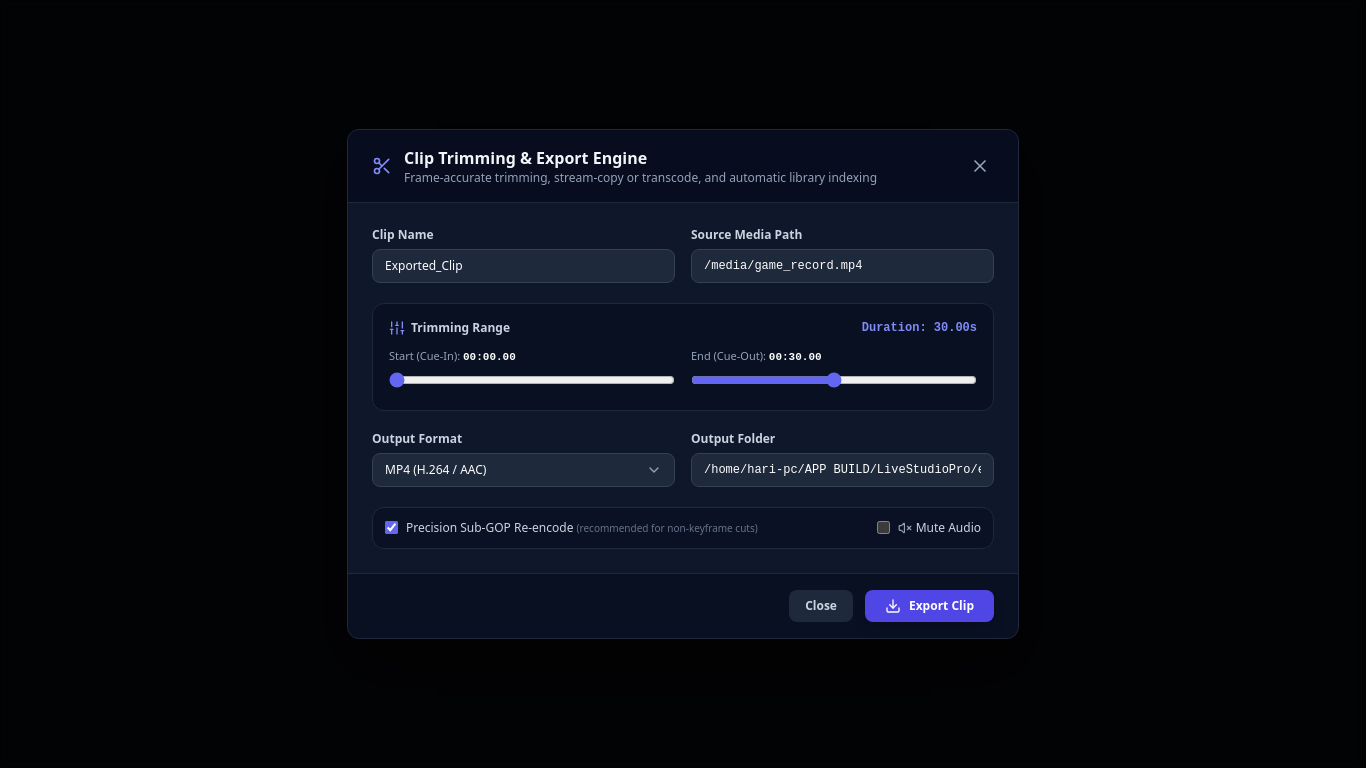
Scenario: LiveStudio Pro Phase 7 Playback, Playlists, Instant Replay and Scheduling › renders ClipExportModal and handles visual trimming and export configuration
Expected: the heading "Clip Trimming & Export Engine" is shown, [404, 147, 647, 169]
Expected: the text "Trimming Range" is shown, [389, 320, 510, 336]
Trigger export
Click the button "Export Clip". click: point(930, 606)
box: [865, 590, 994, 622]
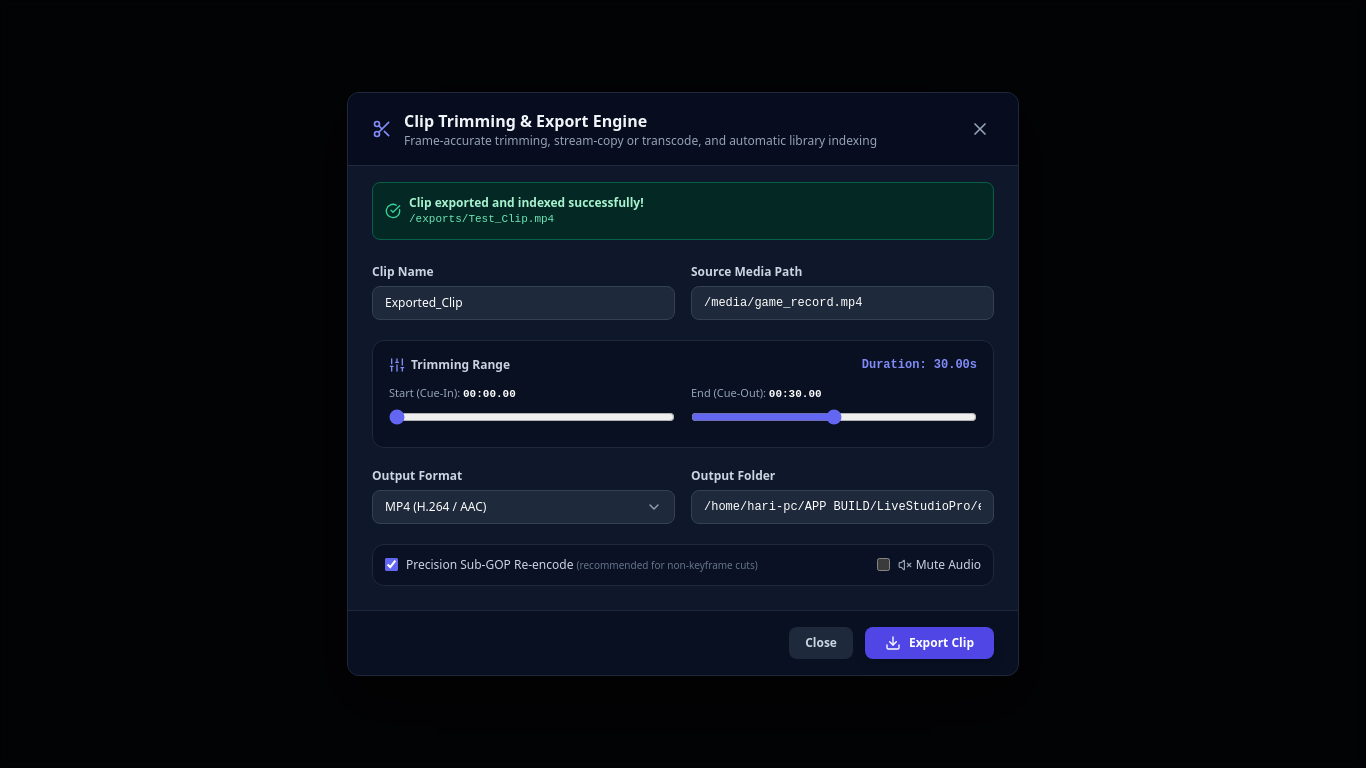
Result: the text "Clip exported and indexed successfully!" is shown at [409, 195, 644, 211]
Result: the text "/exports/Test_Clip.mp4" is shown at [409, 213, 554, 225]
